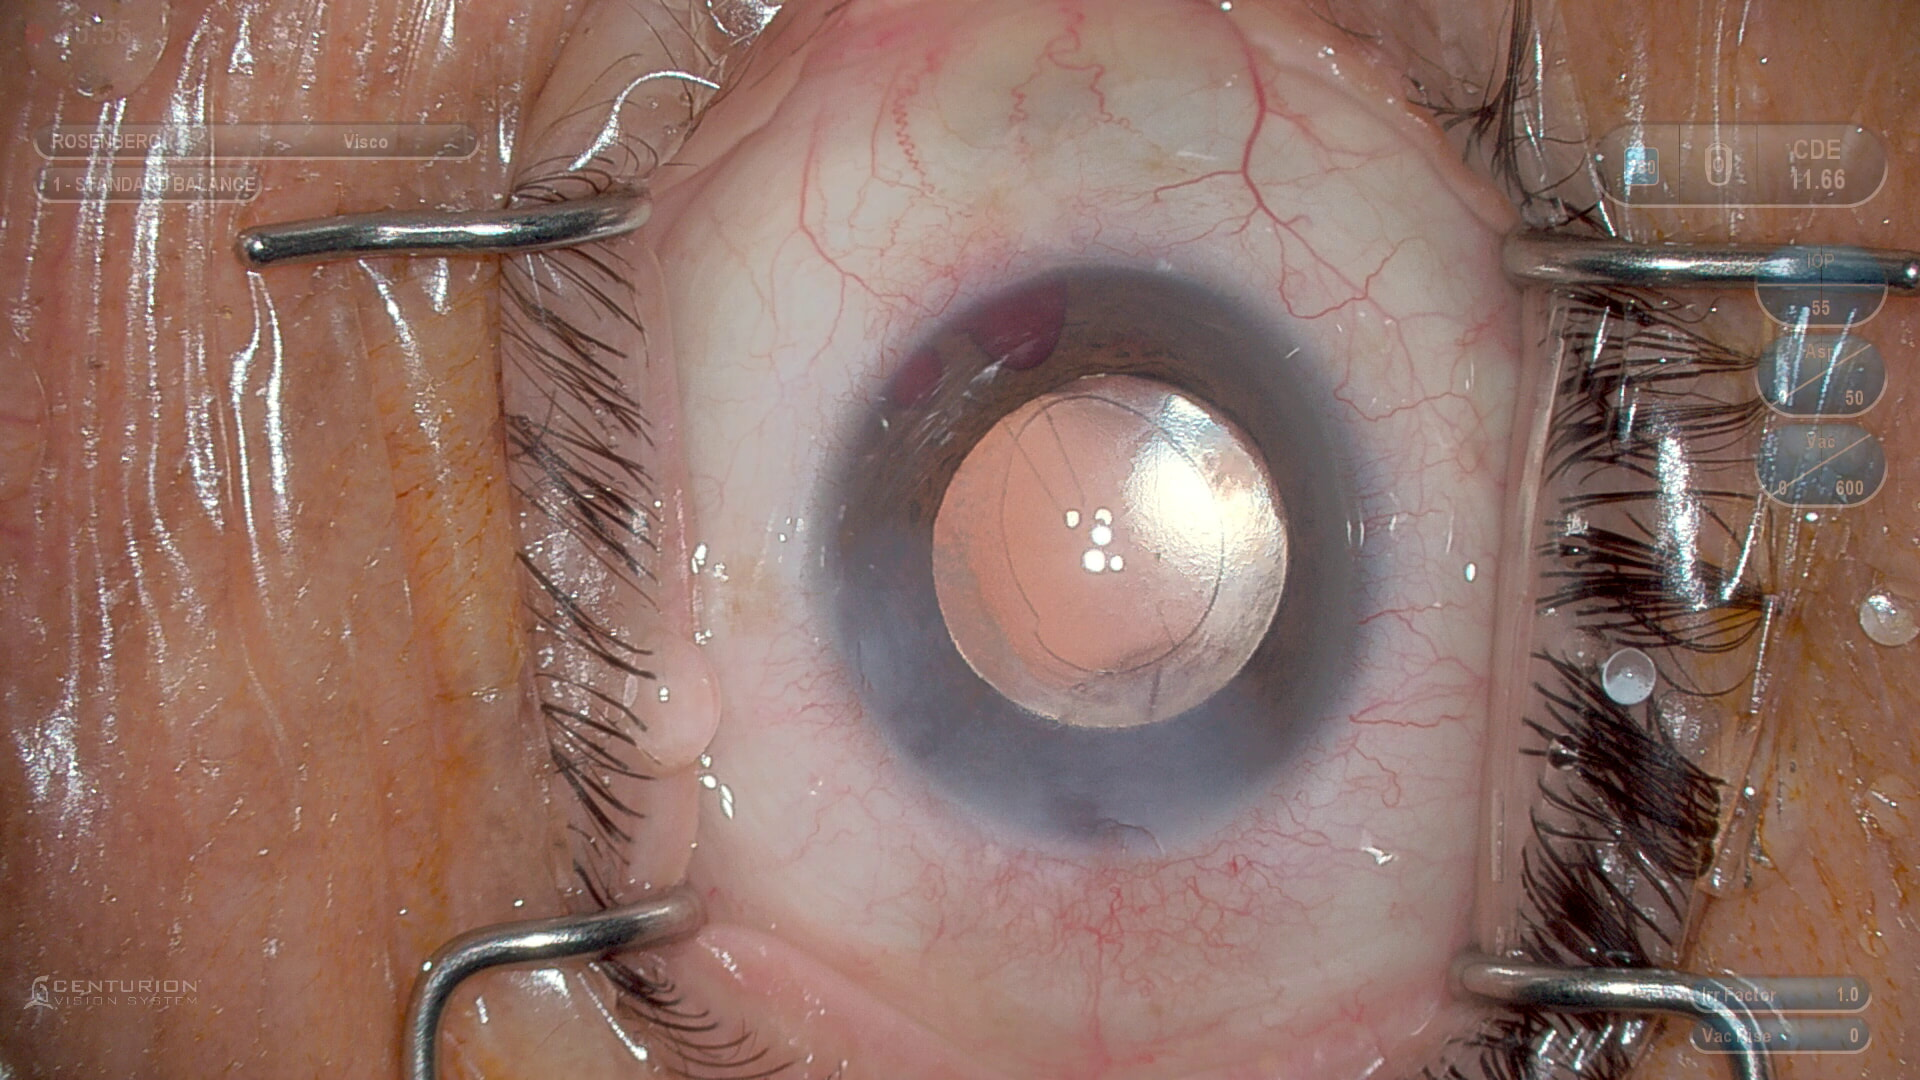iris: (830, 277, 1369, 841)
pupil: (928, 370, 1294, 726)
